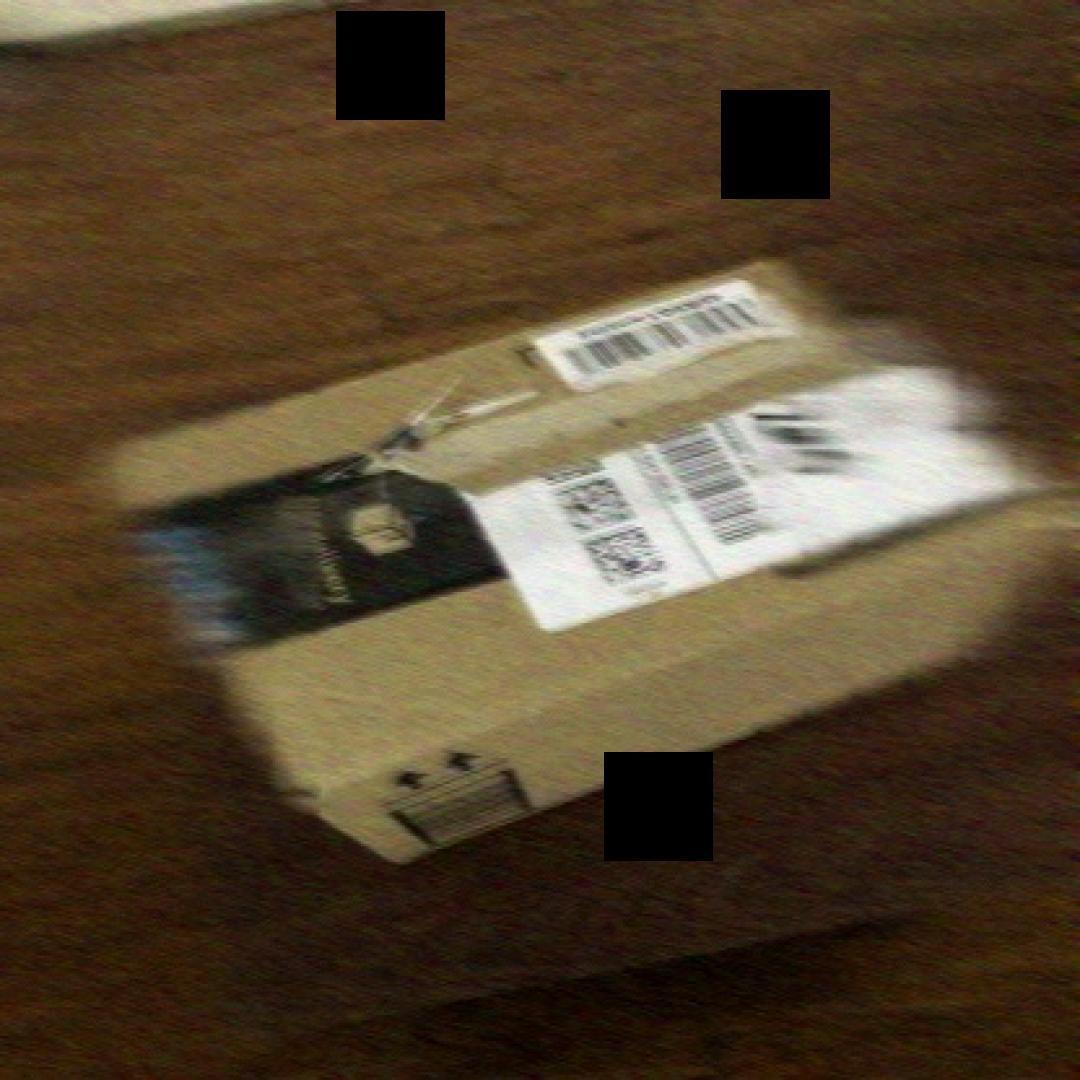package: (89, 247, 1078, 901)
